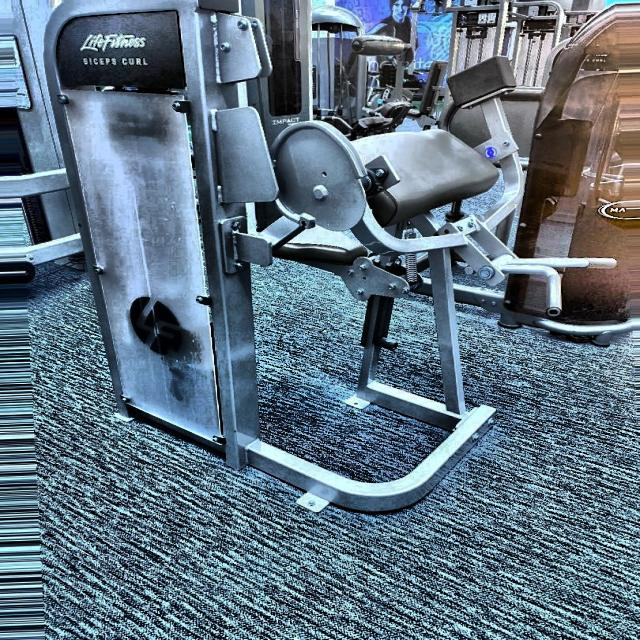bicep_curl_machine: (248, 10, 634, 520), (74, 53, 156, 73)
